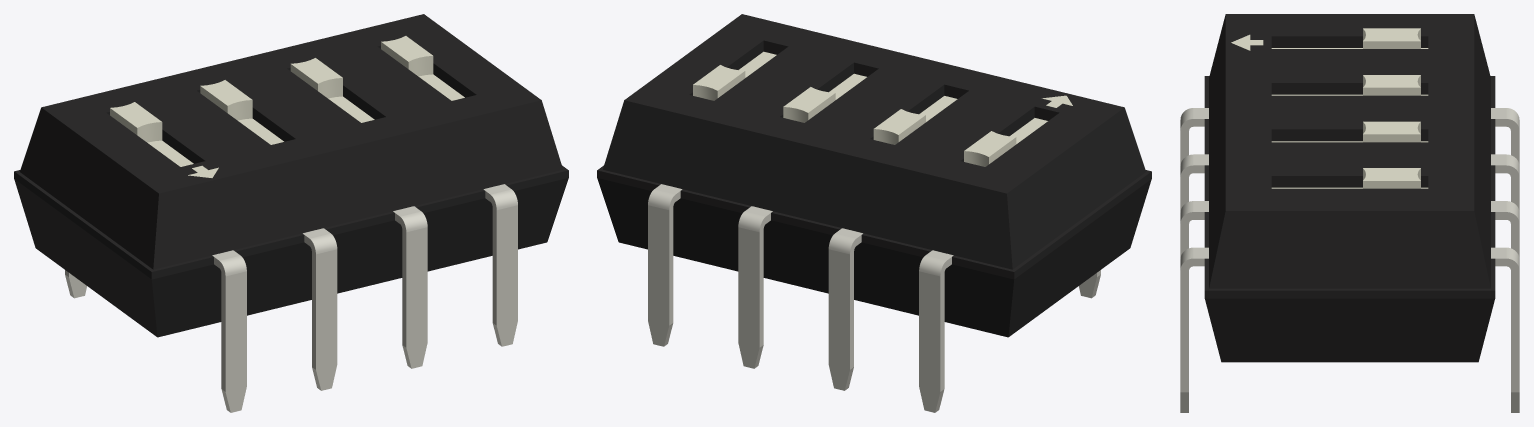
The model's file is kc-sw_dip_spstx04_slide_6.7x11.72mm_w7.62mm_p2.54mm_lowprofile.glb.
3 views of the same model, side by side, from view 1: azimuth 30°, elevation 25°; view 2: azimuth 150°, elevation 25°; view 3: azimuth 270°, elevation 25° (orthographic). The views are drawn at different scales.
Parts seen in each view (by area): view 1: 0_0_0_0, 0.6666666666666666_0.6666666666666666_0.5833333333333334_0.8, 0.75_0.75_0.6666666666666666_0; view 2: 0_0_0_0, 0.6666666666666666_0.6666666666666666_0.5833333333333334_0.8, 0.75_0.75_0.6666666666666666_0; view 3: 0_0_0_0, 0.6666666666666666_0.6666666666666666_0.5833333333333334_0.8, 0.75_0.75_0.6666666666666666_0.
Boxes of the visible parts, x1,y1,x2,y2 form: 0_0_0_0: (14, 14, 568, 337); 0.6666666666666666_0.6666666666666666_0.5833333333333334_0.8: (65, 184, 517, 412); 0.75_0.75_0.6666666666666666_0: (110, 36, 464, 177); 0_0_0_0: (597, 14, 1151, 337); 0.6666666666666666_0.6666666666666666_0.5833333333333334_0.8: (648, 184, 1100, 412); 0.75_0.75_0.6666666666666666_0: (693, 51, 1072, 166); 0_0_0_0: (1204, 14, 1495, 362); 0.6666666666666666_0.6666666666666666_0.5833333333333334_0.8: (1180, 108, 1519, 412); 0.75_0.75_0.6666666666666666_0: (1231, 28, 1428, 188).
Size of the model in its own units: 1.17 by 0.6 by 0.782.
